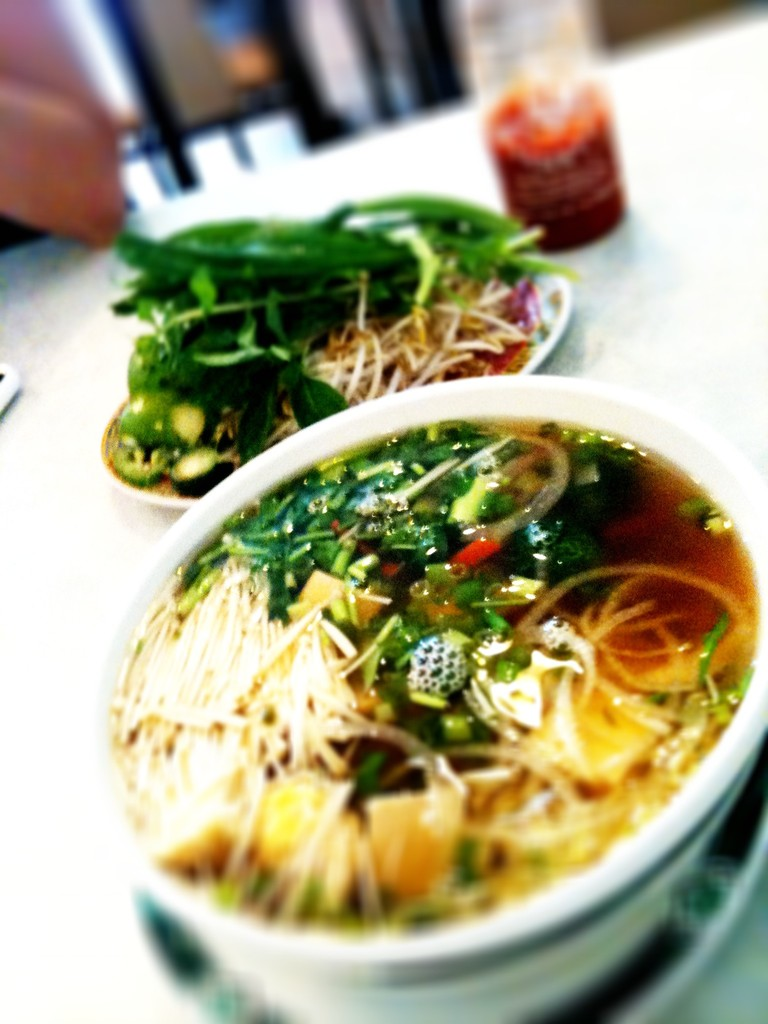salad: (117, 186, 582, 493)
